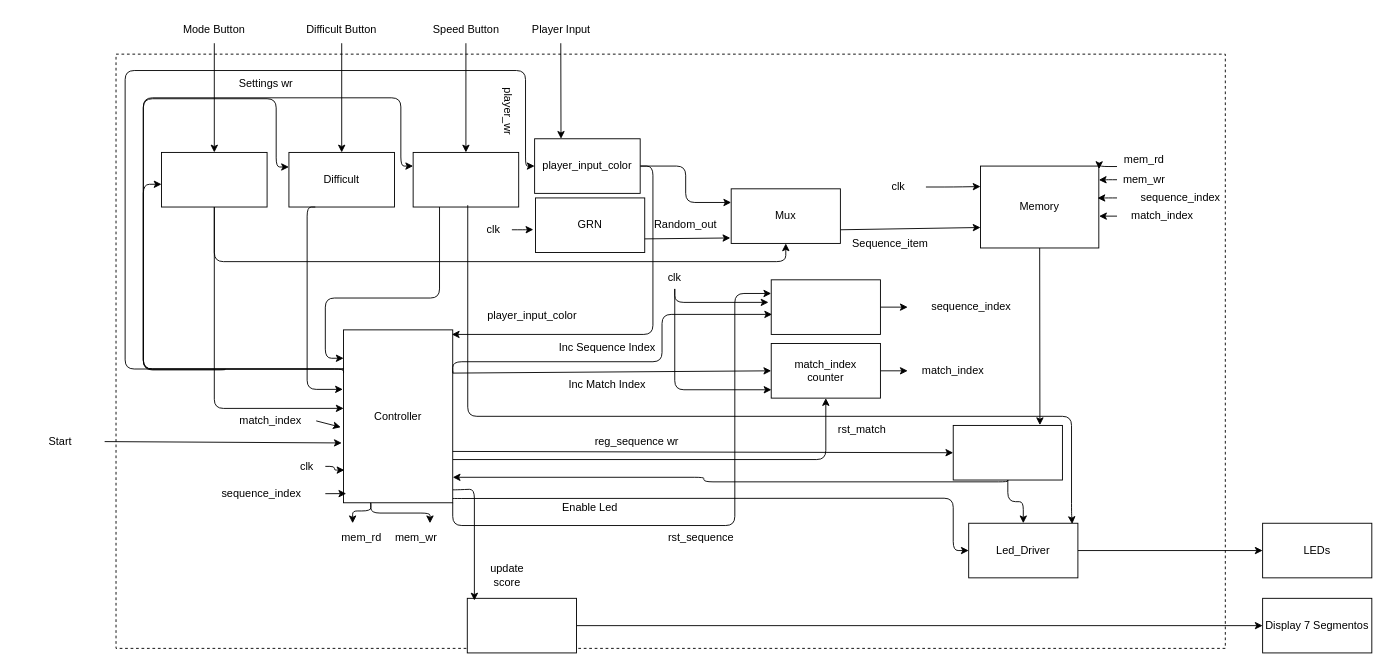
Image size: 1388x669. Some labels were removed from this diagram. The shapes that lost their labels are listed below. From the top down, each one's centre as x and y in pixels, then its label:
At [214,179]: "Mode".
At [465,179]: "Speed".
At [825,306]: "sequence_index counter".
At [1007,452]: "Reg Sequence Item".
At [521,625]: "Score Driver".
